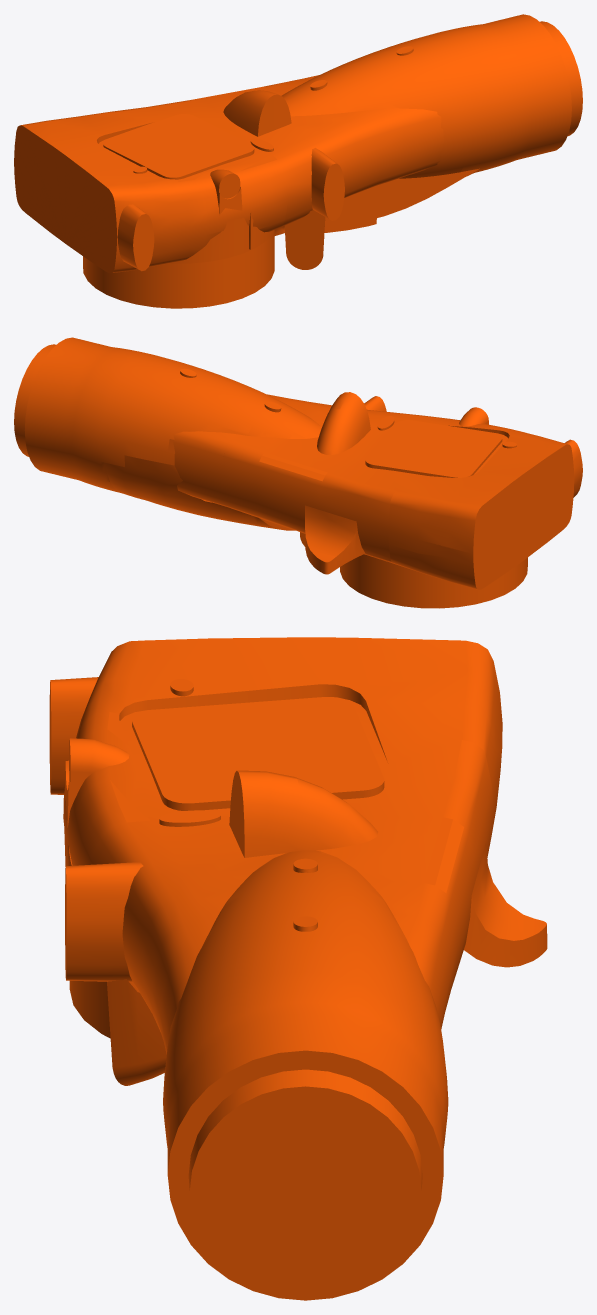
3 views of the same model, one above another, from view 1: azimuth 30°, elevation 25°; view 2: azimuth 150°, elevation 25°; view 3: azimuth 270°, elevation 25° (orthographic). The views are drawn at different scales.
Parts seen in each view (by area): view 1: prd00000011_oNWWNOk+++++3++-ID+HN_explode_1; view 2: prd00000011_oNWWNOk+++++3++-ID+HN_explode_1; view 3: prd00000011_oNWWNOk+++++3++-ID+HN_explode_1.
Boxes of the visible parts, left/top/right/bottom form: prd00000011_oNWWNOk+++++3++-ID+HN_explode_1: left=14, top=14, right=582, bottom=308; prd00000011_oNWWNOk+++++3++-ID+HN_explode_1: left=14, top=337, right=582, bottom=608; prd00000011_oNWWNOk+++++3++-ID+HN_explode_1: left=49, top=637, right=547, bottom=1300.
Bounding box in the file's own units: 0.955 × 0.2927 × 0.4293.
